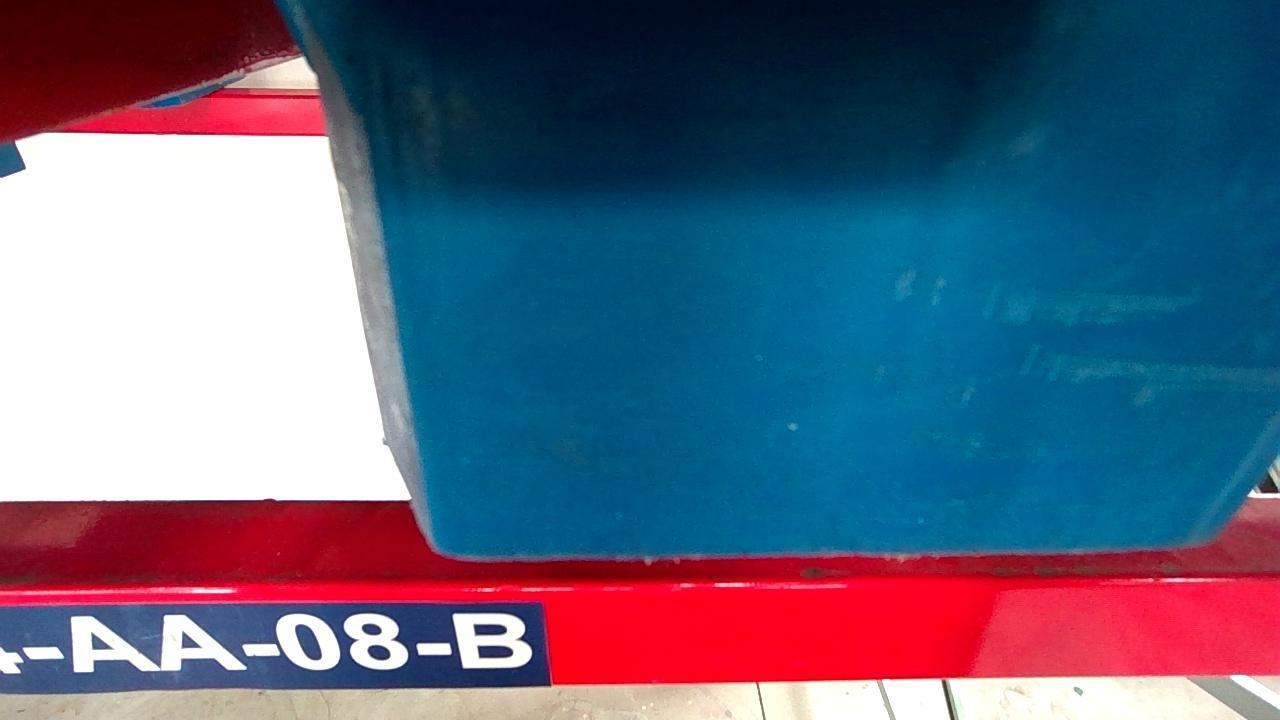h_rack: (0, 578, 1279, 691)
